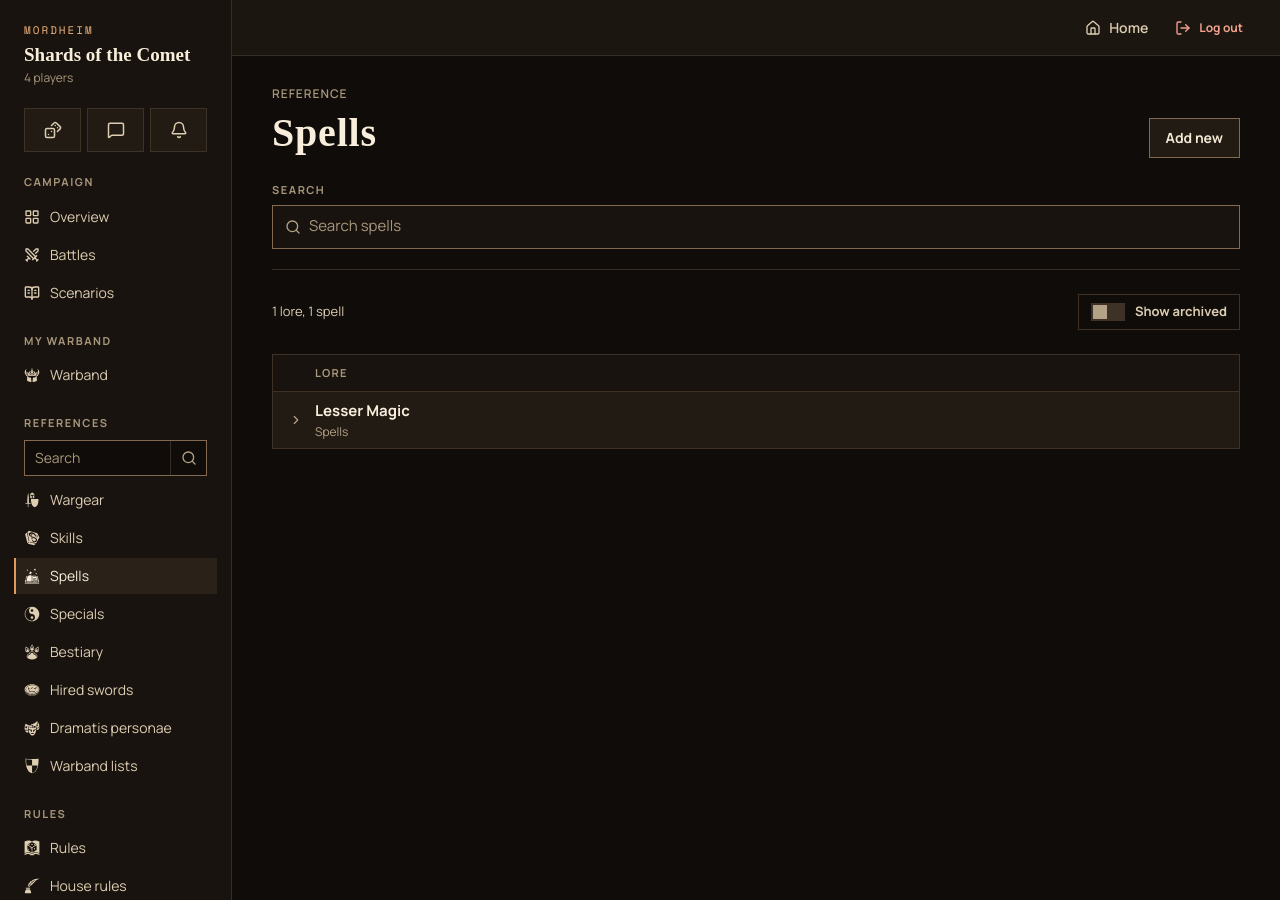
my workshop's catalogue › keeps a campaign's archive and its book edits
Step 1. Click the button "Lesser Magic Spells" → (362, 411), box [273,392,1239,448]
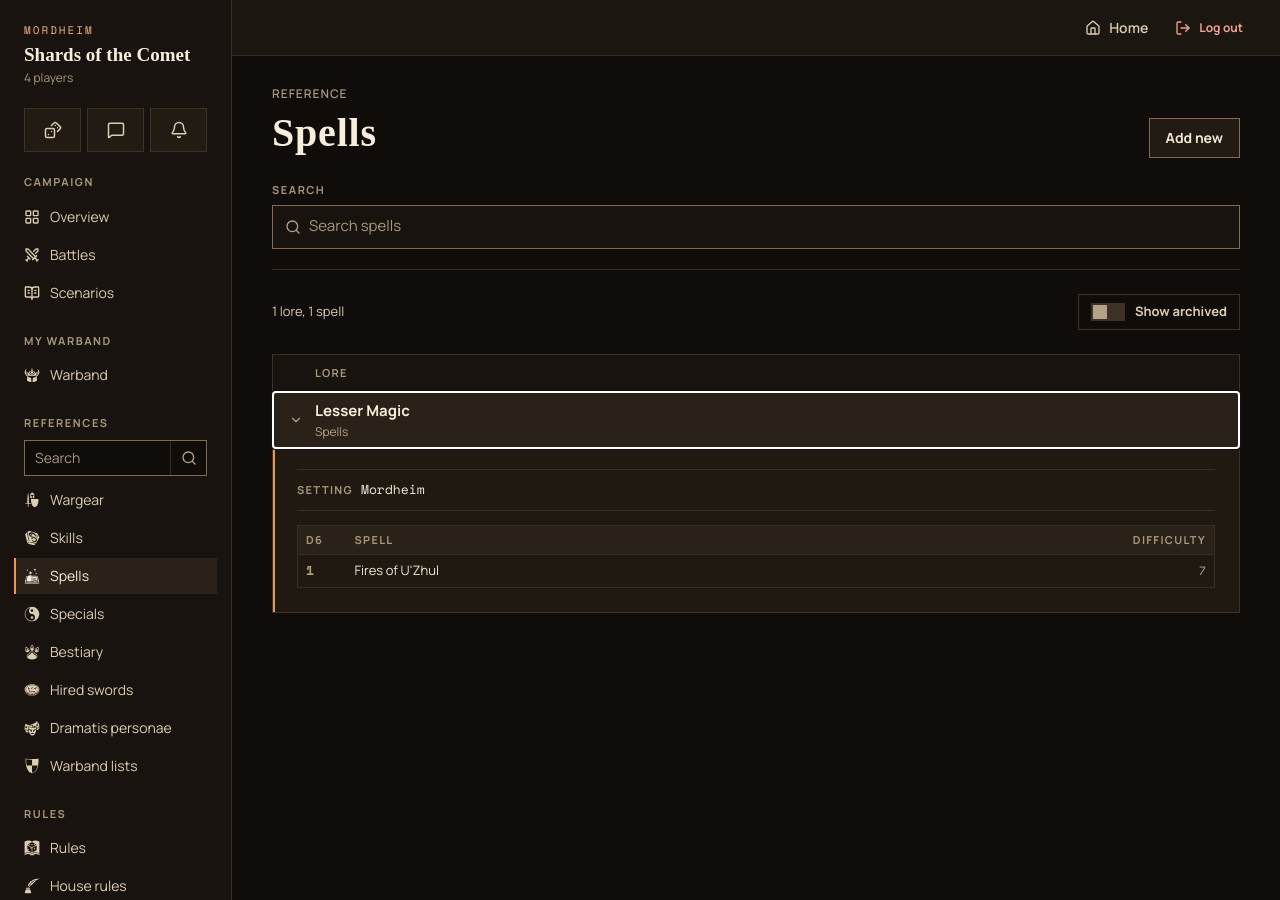
Step 2. Click the button "Fires of U'Zhul" → (397, 570), box [354,561,802,580]
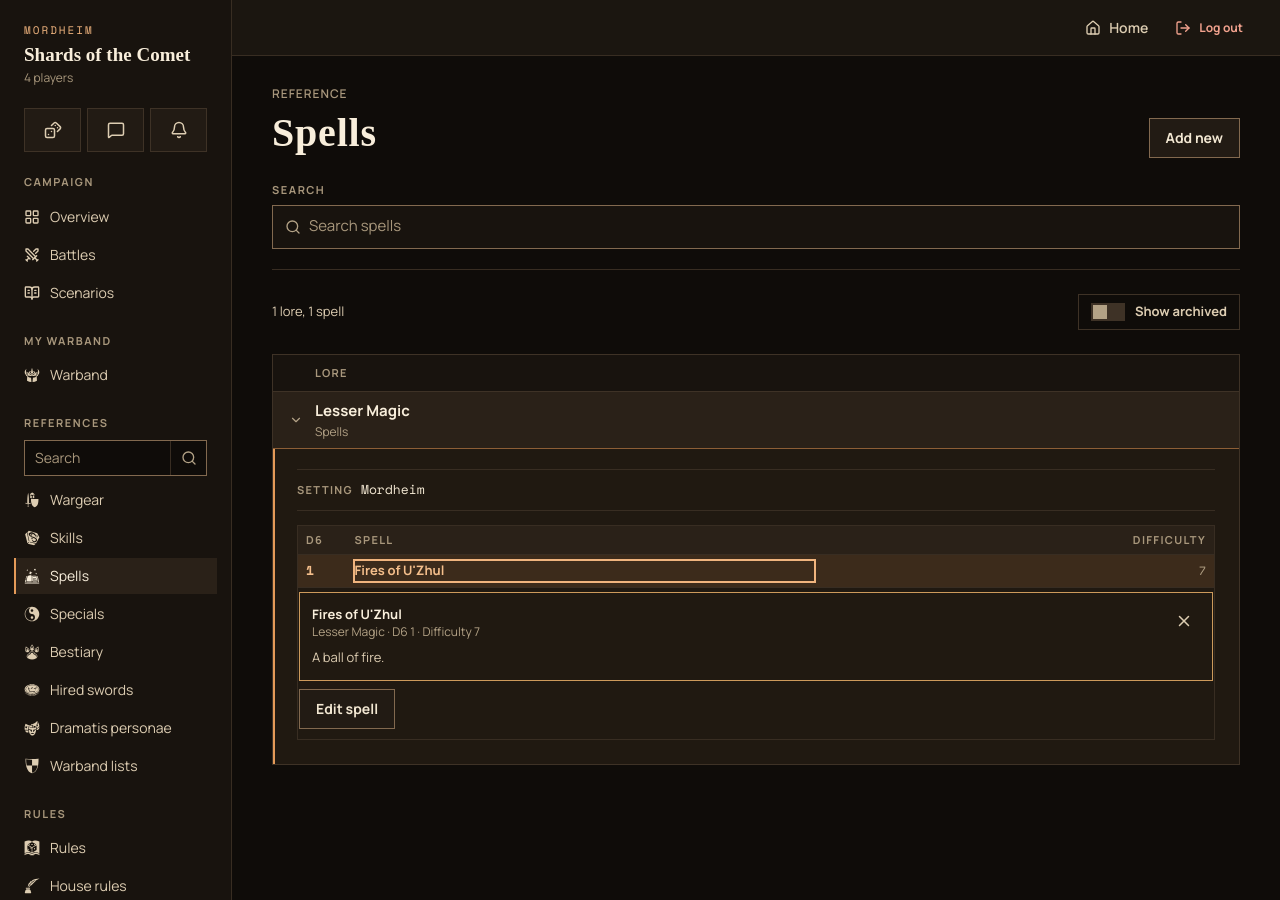
Expected: the switch labelled "Show archived" is shown, [1078,294,1240,330]
Now the button "Edit spell" is shown, box [299,688,395,728]
